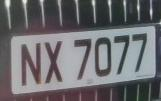0: (92, 32, 114, 82)
7: (72, 34, 95, 85), (111, 31, 132, 80), (130, 28, 151, 75)
N: (18, 36, 43, 92)
X: (41, 34, 67, 88)
